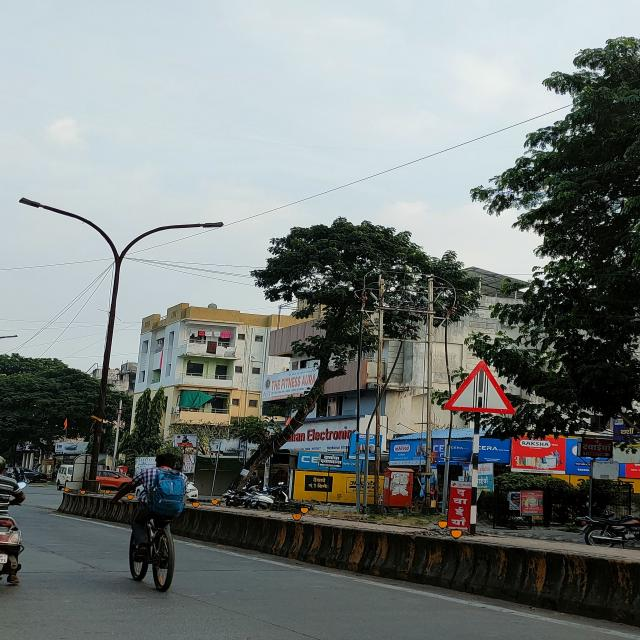GAP_IN_MEDIAN: (444, 361, 515, 415)
